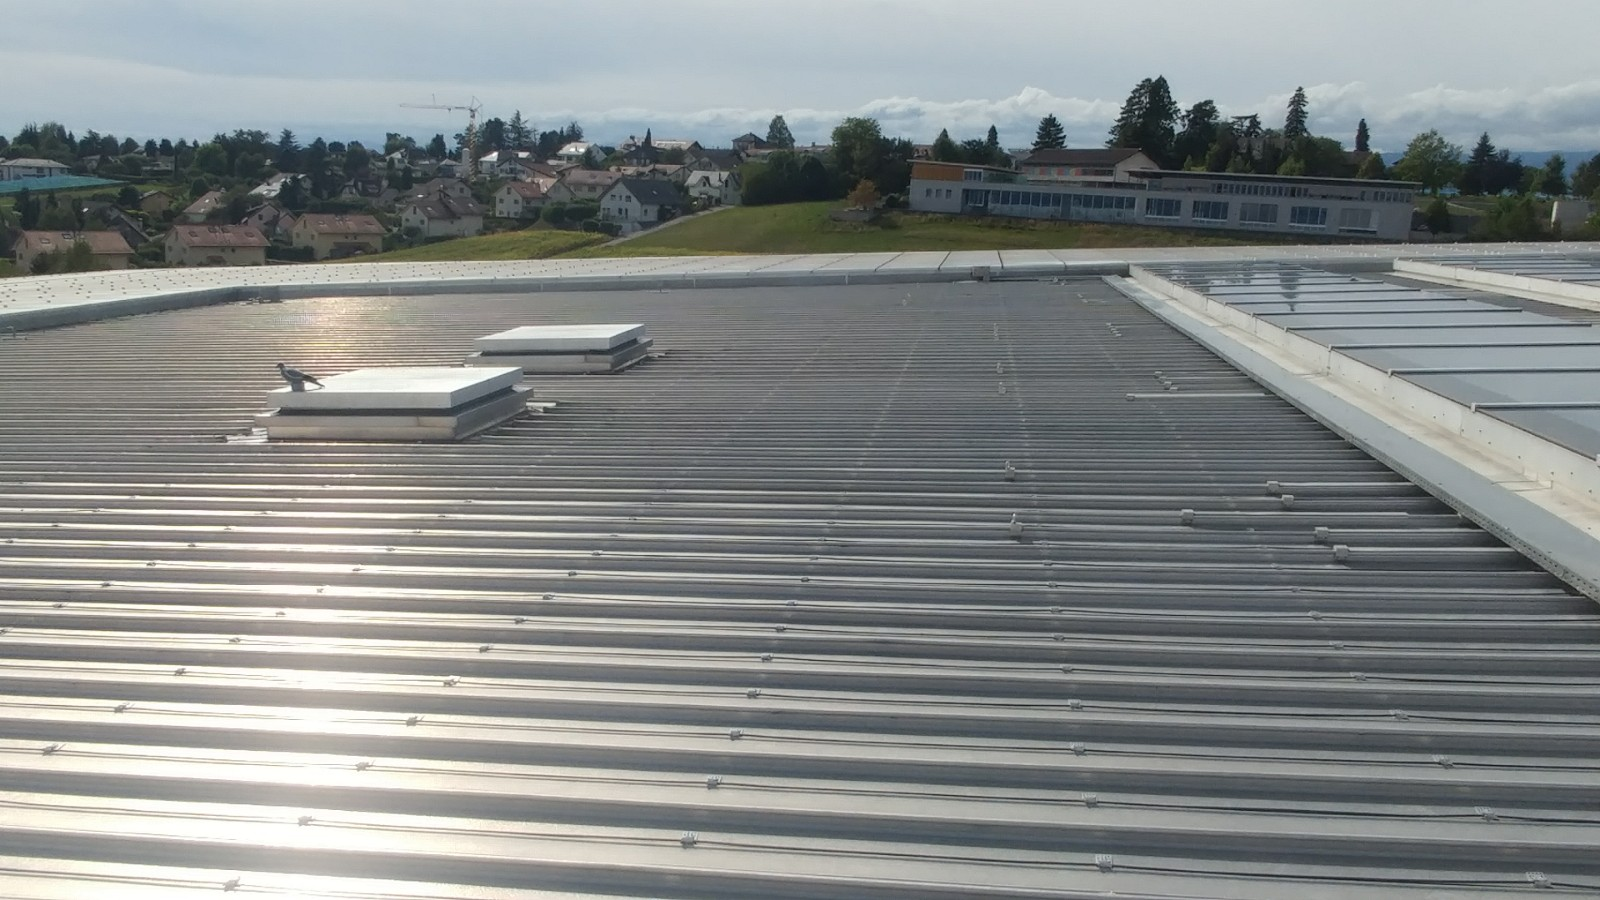Pigeon: (270, 363, 330, 395)
